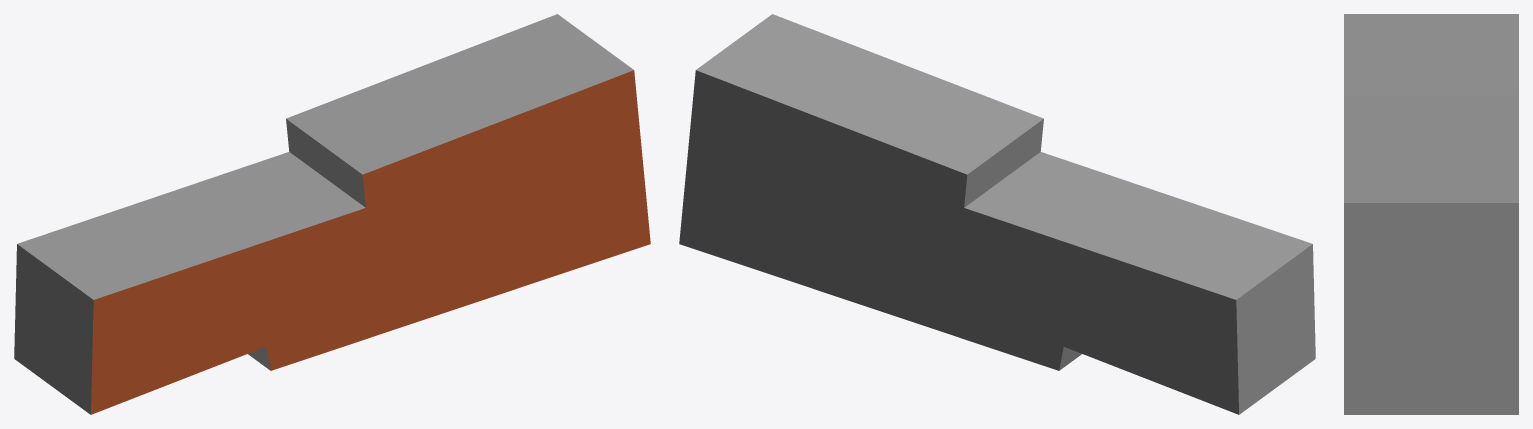
The model's file is construction_6031_assumed_A_Casa_h6m.obj.
The picture shows the model from 3 angles, left to right: view 1: azimuth 30°, elevation 25°; view 2: azimuth 150°, elevation 25°; view 3: azimuth 270°, elevation 25°; orthographic projection. The views are drawn at different scales.
Visible parts, largest first — view 1: construction_6031_assumed_A_Casa; view 2: construction_6031_assumed_A_Casa; view 3: construction_6031_assumed_A_Casa.
Part boxes in pixels (left/top/right/bottom): construction_6031_assumed_A_Casa: left=14, top=14, right=650, bottom=414; construction_6031_assumed_A_Casa: left=679, top=14, right=1315, bottom=414; construction_6031_assumed_A_Casa: left=1344, top=14, right=1518, bottom=414.
Bounding box in the file's own units: 25.3 × 9.17 × 6.
